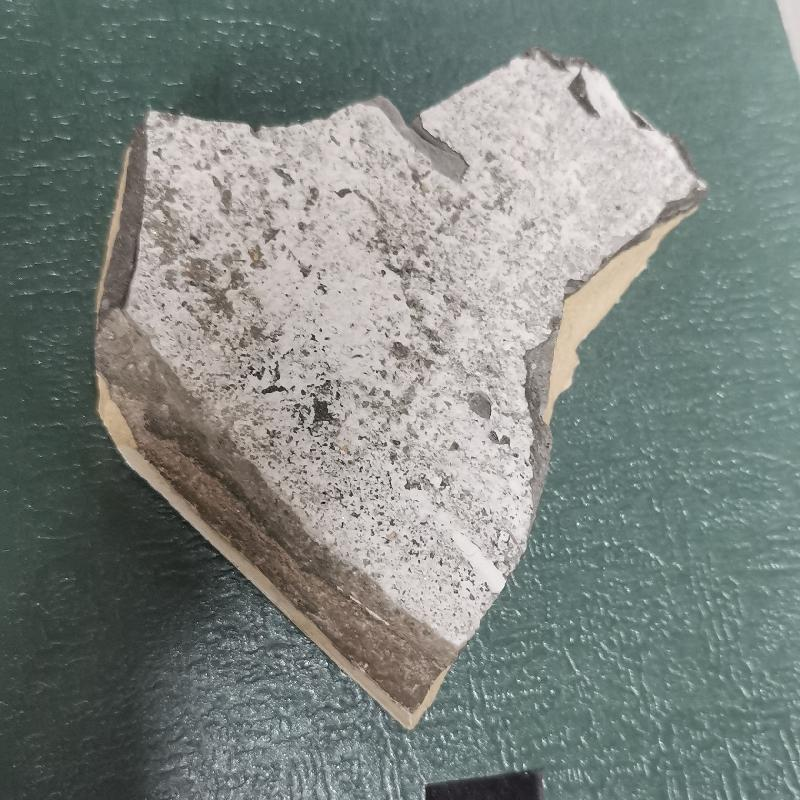tile: (91, 44, 711, 735)
